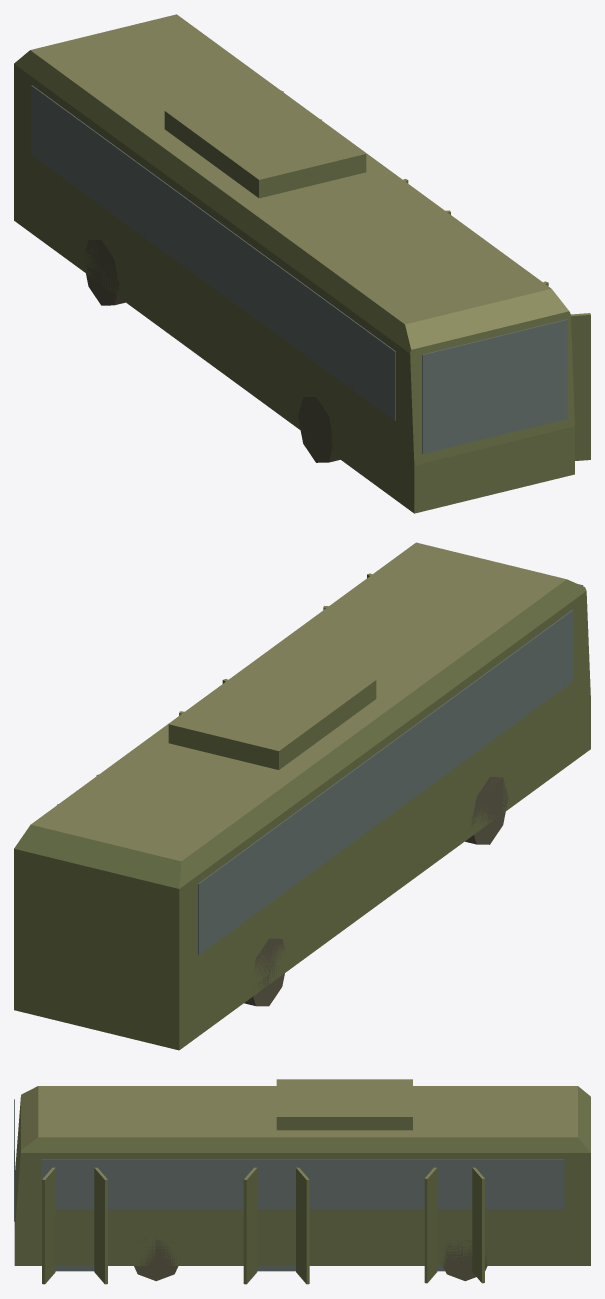
The model's file is SM_Autobus_v1_PuertasAbiertas_LOD1.fbx.
3 renders of one model, top to bottom at view 1: azimuth 30°, elevation 25°; view 2: azimuth 150°, elevation 25°; view 3: azimuth 270°, elevation 25°, orthographic. The views are drawn at different scales.
Visible parts, largest first — view 1: SM_autobus_v1_LOD1; view 2: SM_autobus_v1_LOD1; view 3: SM_autobus_v1_LOD1.
Boxes of the visible parts, x1,y1,x2,y2 form: SM_autobus_v1_LOD1: [14, 14, 590, 513]; SM_autobus_v1_LOD1: [14, 542, 590, 1050]; SM_autobus_v1_LOD1: [14, 1079, 590, 1284].
Size of the model in its own units: 3.14 by 3.26 by 11.02.
